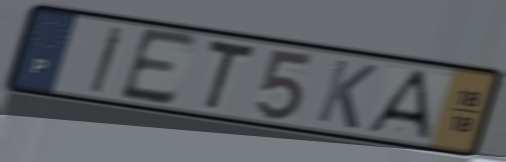5: (252, 46, 319, 122)
A: (362, 67, 435, 143)
E: (116, 24, 202, 109)
I: (87, 23, 129, 96)
K: (312, 56, 381, 132)
T: (202, 36, 259, 115)
